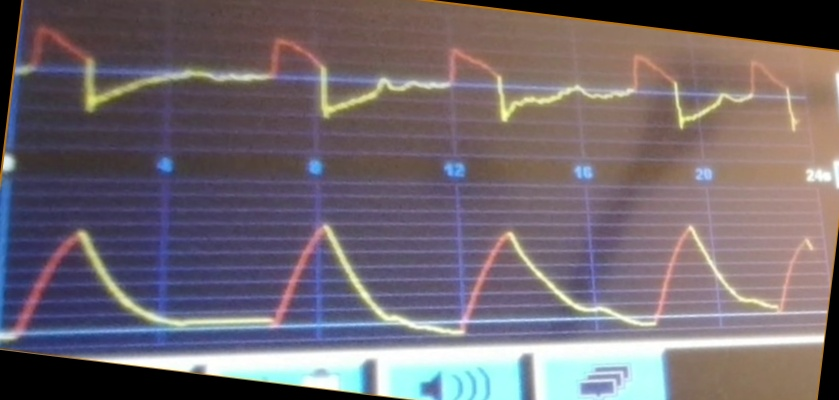Ineffective_effort Flow: (20, 22, 800, 133)
Ineffective_effort Volume: (6, 212, 818, 328)
